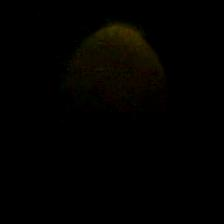fertile: (57, 22, 173, 174)
